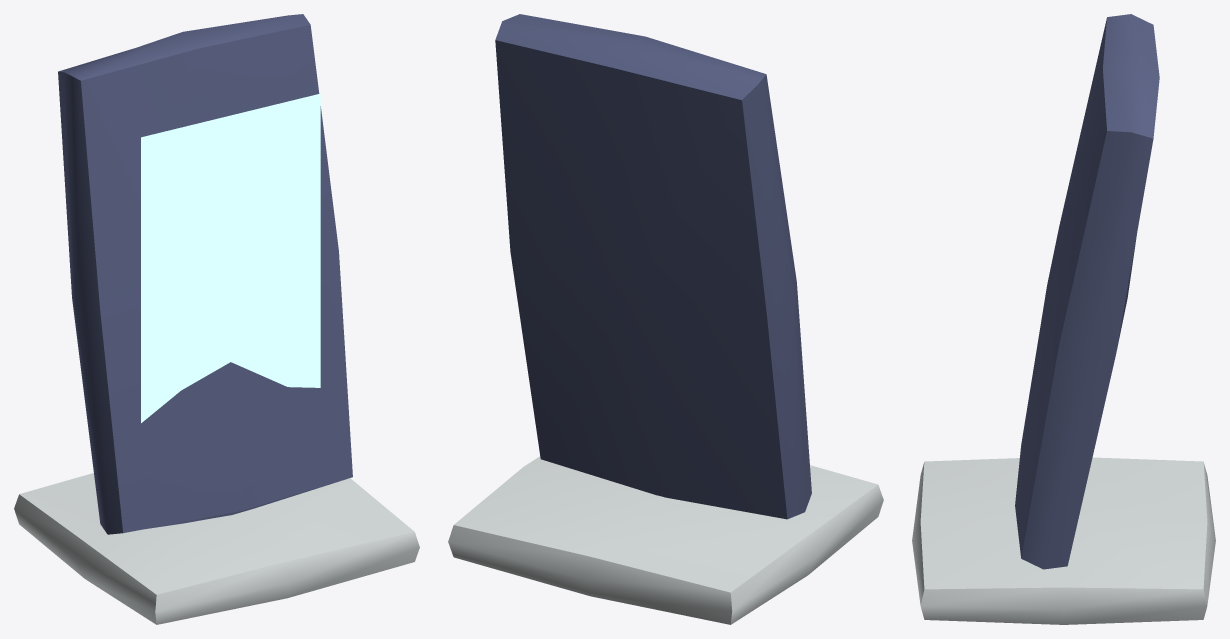
The model's file is phone-stand.glb.
3 views of the same model, side by side, from view 1: azimuth 30°, elevation 25°; view 2: azimuth 150°, elevation 25°; view 3: azimuth 270°, elevation 25° (orthographic). The views are drawn at different scales.
Parts seen in each view (by area): view 1: part (×2), phone-screen; view 2: part (×2); view 3: part (×2).
Part boxes in pixels (x1=…): part (×2): x1=14, y1=14, x2=419, y2=624; phone-screen: x1=141, y1=93, x2=320, y2=422; part (×2): x1=448, y1=14, x2=883, y2=624; part (×2): x1=912, y1=14, x2=1215, y2=624.
Bounding box in the file's own units: 0.14 × 0.2382 × 0.13.
2 materials, 2 textured.
